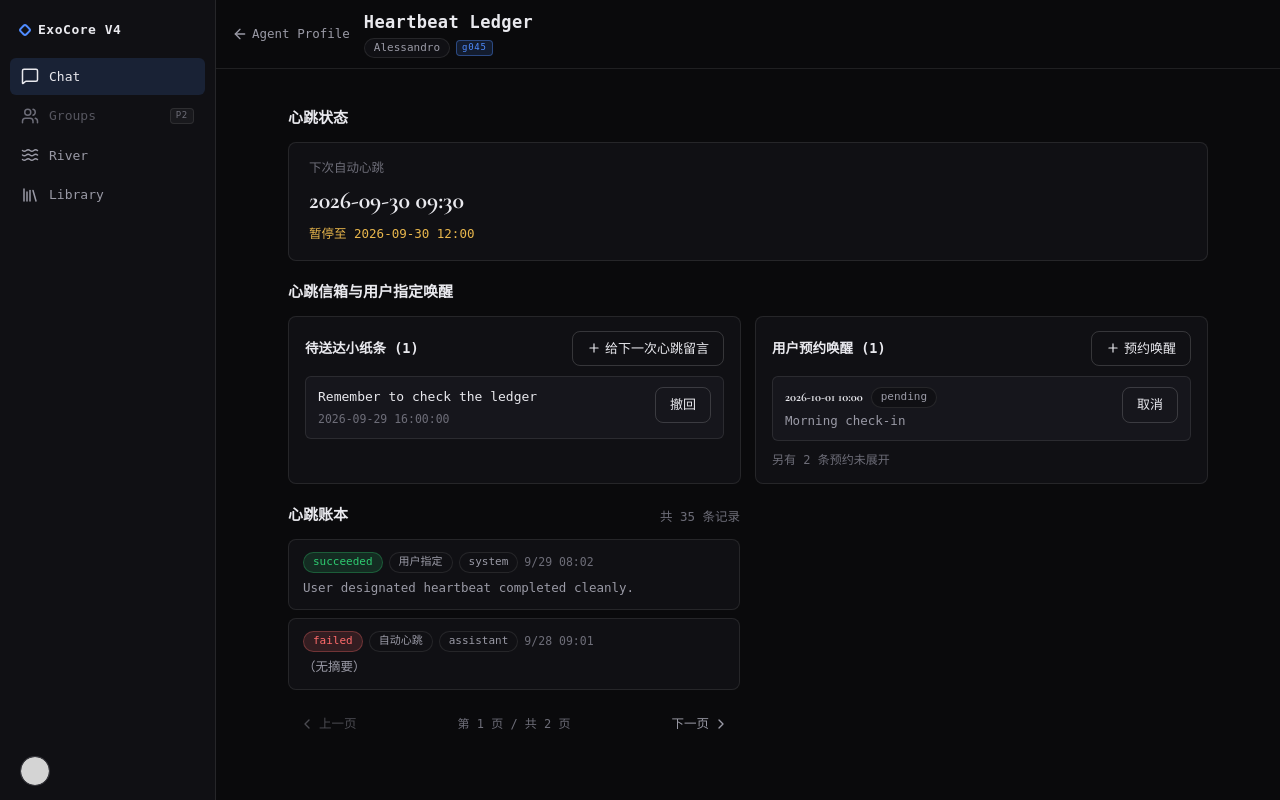
it: Heartbeat Page & Profile Entry (CP-A, Plan §2.1 / §2.2) › Section C: Heartbeat Ledger list, detail & pagination › supports pagination next and prev controls
Expected: the text "第 1 页 / 共 2 页" is shown, x1=458 y1=715 x2=571 y2=733
Expected: the button "上一页" is disabled, x1=288 y1=710 x2=368 y2=738
Click the button "下一页" at (700, 724), box x1=660 y1=710 x2=740 y2=738
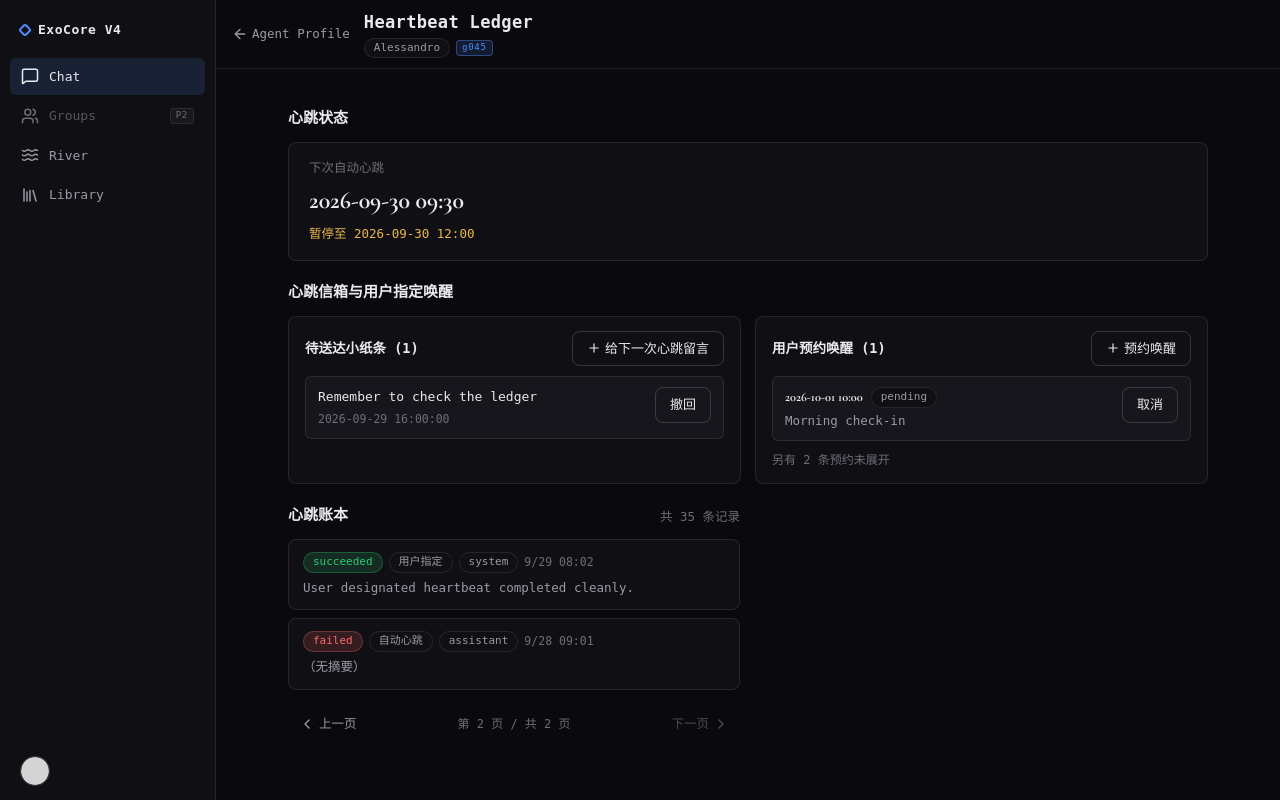
Result: the text "第 2 页 / 共 2 页" is shown at x1=458 y1=715 x2=571 y2=733
Result: the button "上一页" is enabled
Result: the button "下一页" is disabled at x1=660 y1=710 x2=740 y2=738
Click the button "上一页" at (328, 724), box x1=288 y1=710 x2=368 y2=738
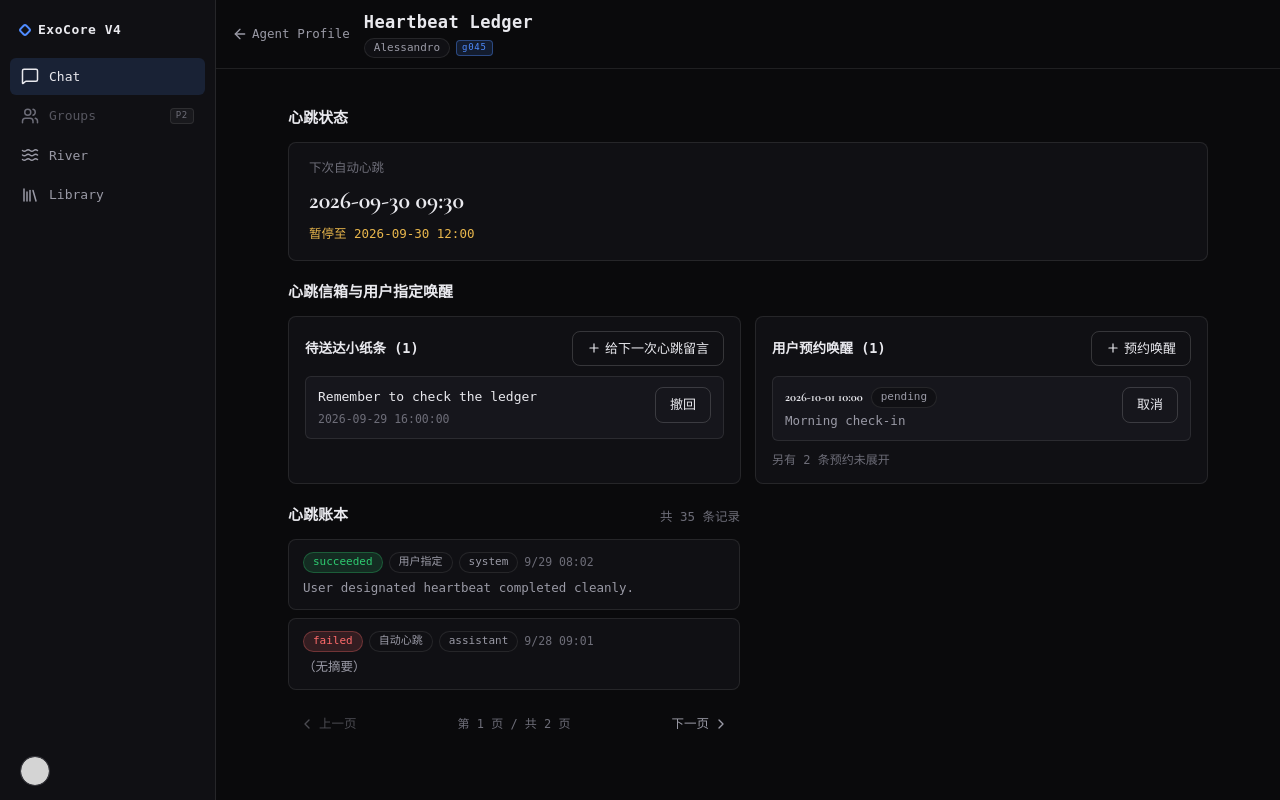
Result: the text "第 1 页 / 共 2 页" is shown at x1=458 y1=715 x2=571 y2=733
